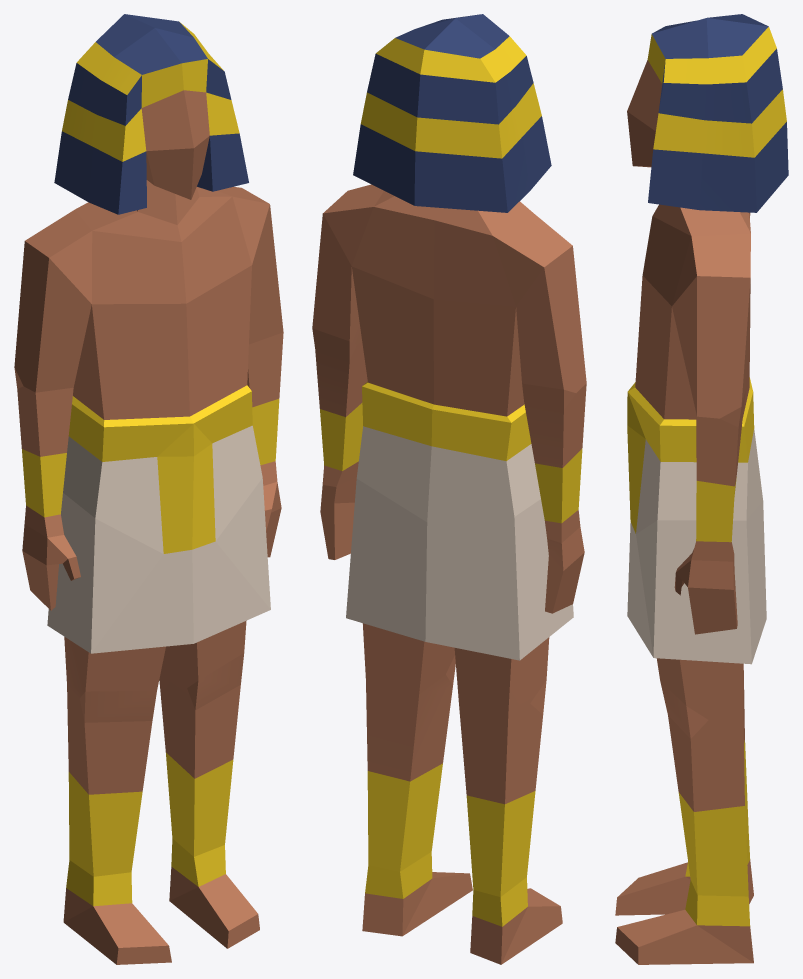
File: people_man-egypt-soldier.fbx
The picture shows the model from 3 angles, left to right: view 1: azimuth 30°, elevation 25°; view 2: azimuth 150°, elevation 25°; view 3: azimuth 270°, elevation 25°; orthographic projection.
Visible parts, largest first — view 1: people_man_egypt_soldier; view 2: people_man_egypt_soldier; view 3: people_man_egypt_soldier.
Boxes of the visible parts, x1,y1,x2,y2 form: people_man_egypt_soldier: [14, 14, 283, 964]; people_man_egypt_soldier: [312, 14, 586, 964]; people_man_egypt_soldier: [615, 14, 788, 964].
Size of the model in its own units: 58.34 by 200 by 34.46.
